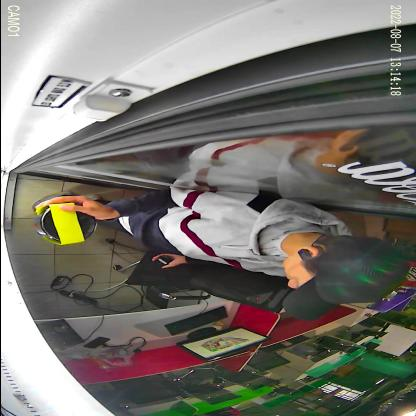yellow: (34, 203, 98, 245)
